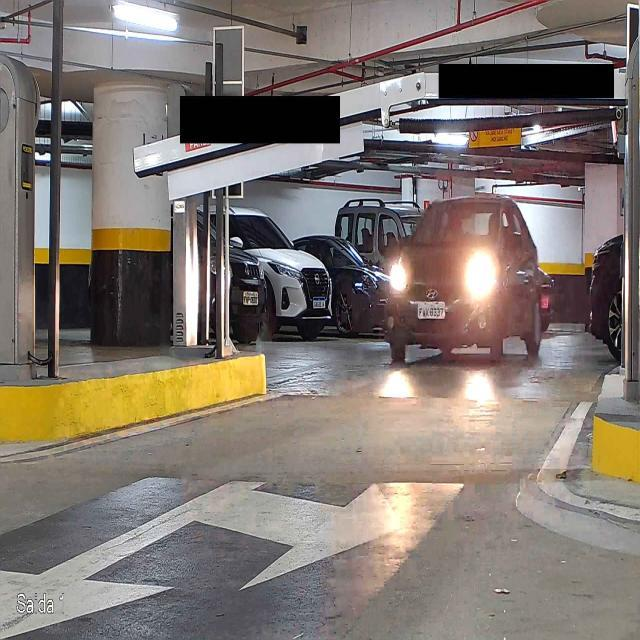old_plate: (416, 301, 446, 320)
